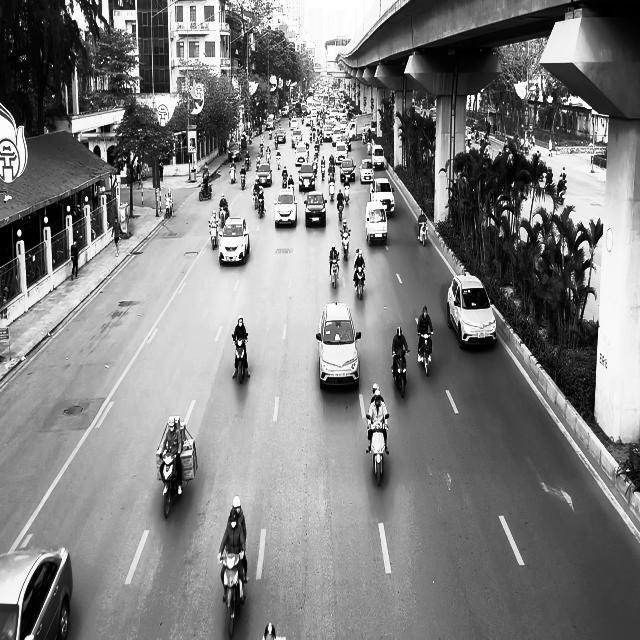car: (0, 546, 73, 639), (446, 273, 497, 349), (316, 302, 361, 388), (219, 216, 250, 266), (365, 200, 388, 247), (273, 188, 298, 227), (304, 191, 326, 227), (255, 163, 272, 186)
motorbike: (218, 550, 246, 638), (366, 413, 389, 486), (160, 451, 182, 518), (232, 334, 250, 384), (392, 348, 409, 398), (417, 332, 433, 376), (353, 267, 365, 299), (329, 256, 339, 288), (340, 229, 350, 260), (209, 222, 218, 250), (418, 222, 428, 246)
